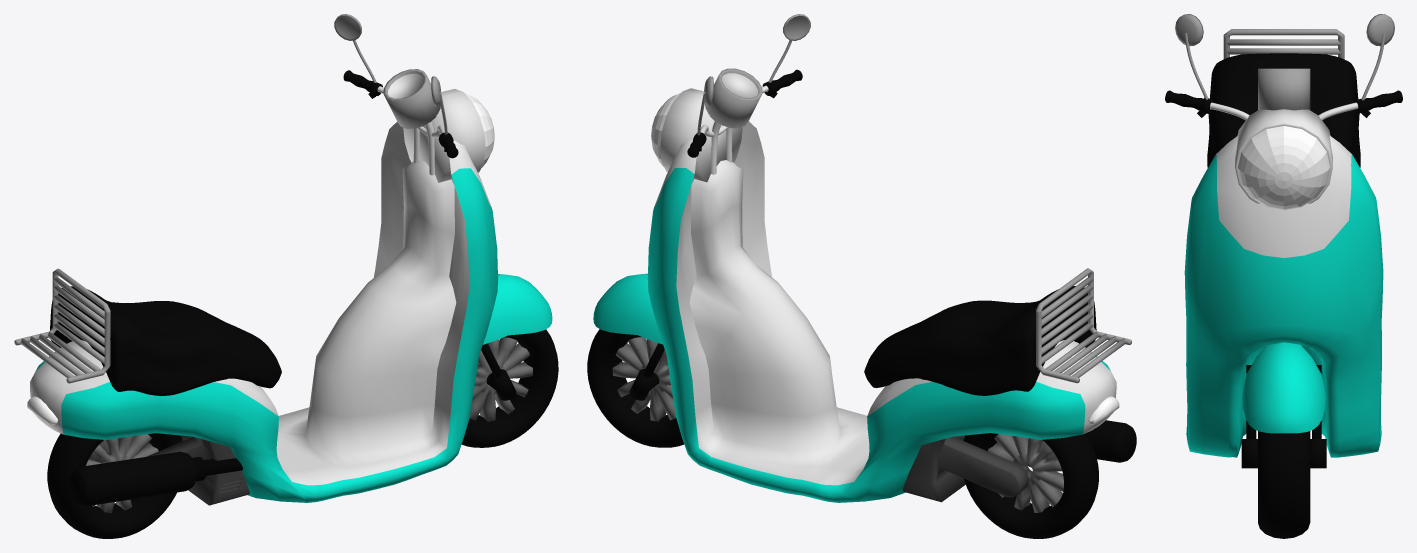
Rendered from scooter.gltf.
The picture shows the model from 3 angles, left to right: view 1: azimuth 30°, elevation 25°; view 2: azimuth 150°, elevation 25°; view 3: azimuth 270°, elevation 25°; orthographic projection. The views are drawn at different scales.
Visible parts, largest first — view 1: basebody, seat, wheel.front, wheel.back, exhaust, luggageholder, headlightbody, splashback, motor, dashboard, mirrors, handlebar (+2 smaller); view 2: basebody, seat, wheel.back, wheel.front, motor, luggageholder, headlightbody, splashback, dashboard, exhaust, mirrors, handlebar (+1 smaller); view 3: basebody, seat, splashback, headlightglass.001, wheel.front, luggageholder, headlightbody, dashboard, mirrors, handlebar, suspension.
Part boxes in pixels (x1,y1,x2,y2): basebody: (30, 122, 497, 502); seat: (50, 286, 281, 396); wheel.front: (461, 329, 558, 447); wheel.back: (47, 433, 182, 538); exhaust: (69, 451, 242, 506); luggageholder: (14, 268, 110, 383); headlightbody: (403, 89, 485, 182); splashback: (483, 274, 552, 344); motor: (89, 435, 250, 505); dashboard: (383, 69, 440, 128); mirrors: (334, 14, 447, 134); handlebar: (343, 70, 458, 158); basebody: (647, 121, 1116, 502); seat: (864, 286, 1096, 395); wheel.back: (964, 433, 1098, 538); wheel.front: (587, 329, 684, 447); motor: (902, 435, 1057, 502); luggageholder: (1036, 268, 1131, 383); headlightbody: (660, 88, 742, 182); splashback: (593, 273, 662, 344); dashboard: (705, 68, 762, 128); exhaust: (1086, 420, 1136, 462); mirrors: (697, 14, 810, 135); handlebar: (687, 69, 802, 157); basebody: (1184, 135, 1383, 457); seat: (1207, 53, 1360, 167); splashback: (1242, 342, 1325, 433); headlightglass.001: (1238, 126, 1330, 209); wheel.front: (1258, 431, 1310, 538); luggageholder: (1223, 29, 1344, 59); headlightbody: (1235, 109, 1332, 203); dashboard: (1258, 68, 1310, 110); mirrors: (1175, 14, 1394, 109); handlebar: (1165, 90, 1402, 120); suspension: (1241, 365, 1326, 468).
Size of the model in its own units: 4.05 by 3.13 by 1.45.
